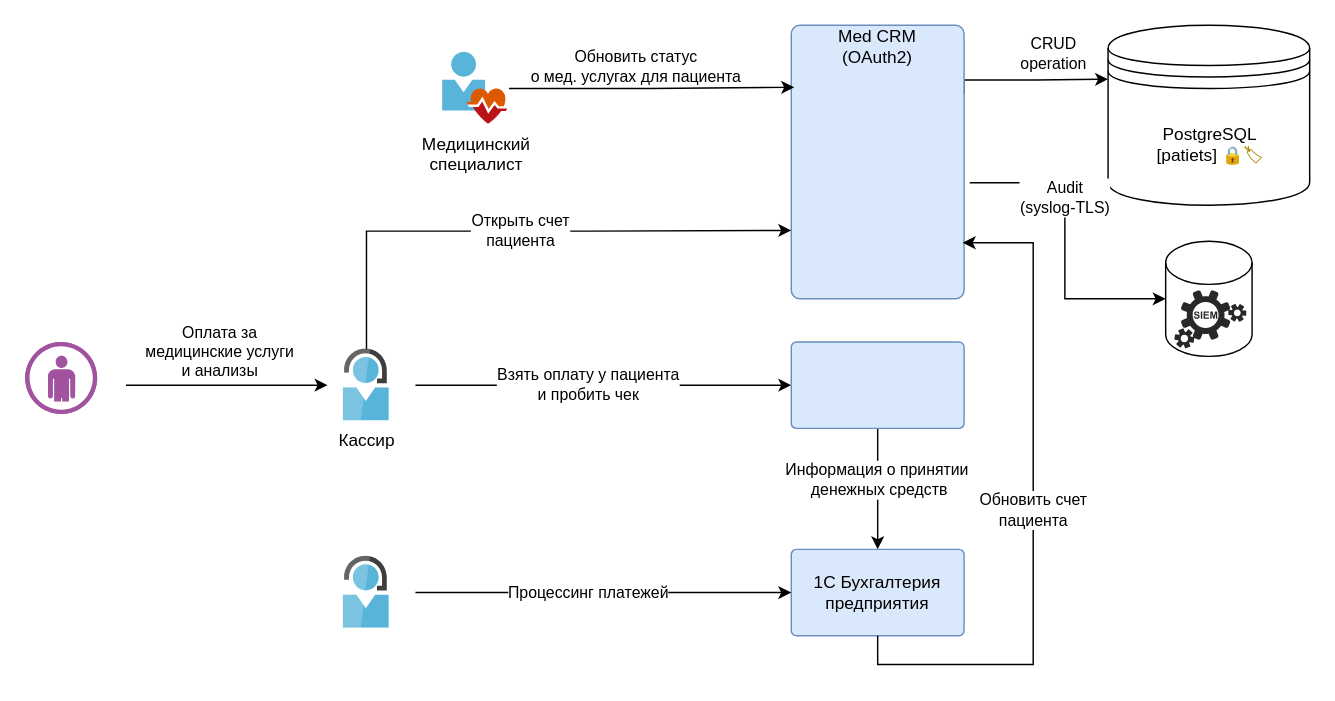
Image size: 1335x701. Some labels were removed from this diagram. Here are the shapes that lost their labels. From the top down, the centre of each, then its label:
point (60, 377): Пациент
point (877, 384): Контрольно-кассовая машина
point (366, 592): Бухгалтер
